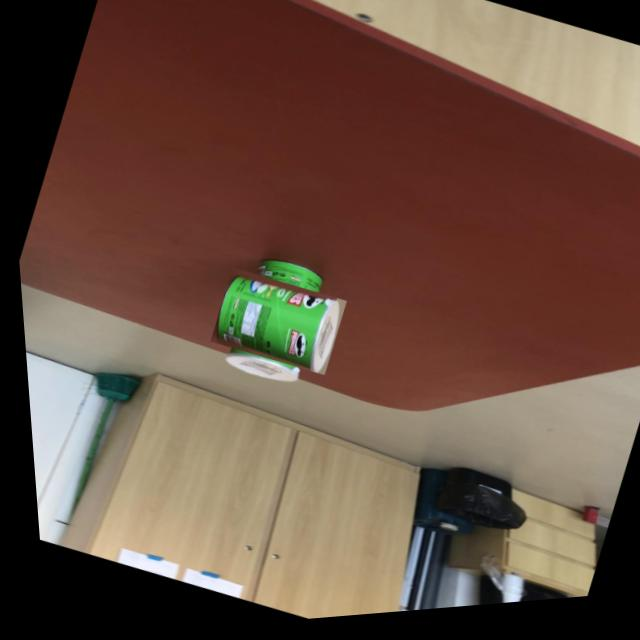a pringles: (205, 258, 340, 393)
